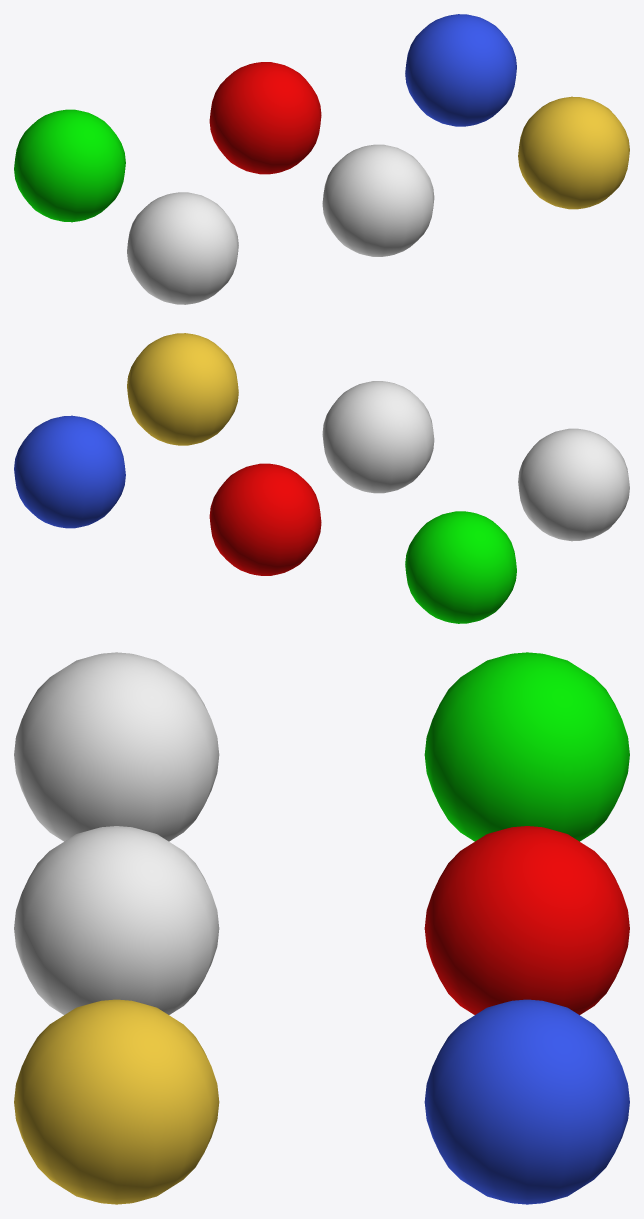
Rendered from pbr.glb.
3 renders of one model, top to bottom at view 1: azimuth 30°, elevation 25°; view 2: azimuth 150°, elevation 25°; view 3: azimuth 270°, elevation 25°, orthographic. The views are drawn at different scales.
Visible parts, largest first — view 1: Sphere, Sphere.006, Sphere.001, Sphere.003, Sphere.002, Sphere.005; view 2: Sphere.002, Sphere.005, Sphere.001, Sphere.003, Sphere, Sphere.006; view 3: Sphere, Sphere.005, Sphere.002, Sphere.006, Sphere.001, Sphere.003.
Boxes of the visible parts, left/top/right/bottom form: Sphere: left=518, top=96, right=629, bottom=209; Sphere.006: left=14, top=109, right=125, bottom=222; Sphere.001: left=322, top=144, right=434, bottom=256; Sphere.003: left=209, top=62, right=321, bottom=174; Sphere.002: left=127, top=192, right=238, bottom=304; Sphere.005: left=405, top=14, right=516, bottom=126; Sphere.002: left=518, top=428, right=629, bottom=541; Sphere.005: left=14, top=415, right=125, bottom=528; Sphere.001: left=322, top=381, right=434, bottom=493; Sphere.003: left=209, top=463, right=321, bottom=575; Sphere: left=127, top=333, right=238, bottom=445; Sphere.006: left=405, top=511, right=516, bottom=623; Sphere: left=14, top=999, right=219, bottom=1204; Sphere.005: left=424, top=999, right=629, bottom=1204; Sphere.002: left=14, top=652, right=219, bottom=841; Sphere.006: left=424, top=652, right=629, bottom=841; Sphere.001: left=14, top=826, right=219, bottom=1014; Sphere.003: left=424, top=826, right=629, bottom=1014.
Size of the model in its own units: 5 by 1 by 3.
